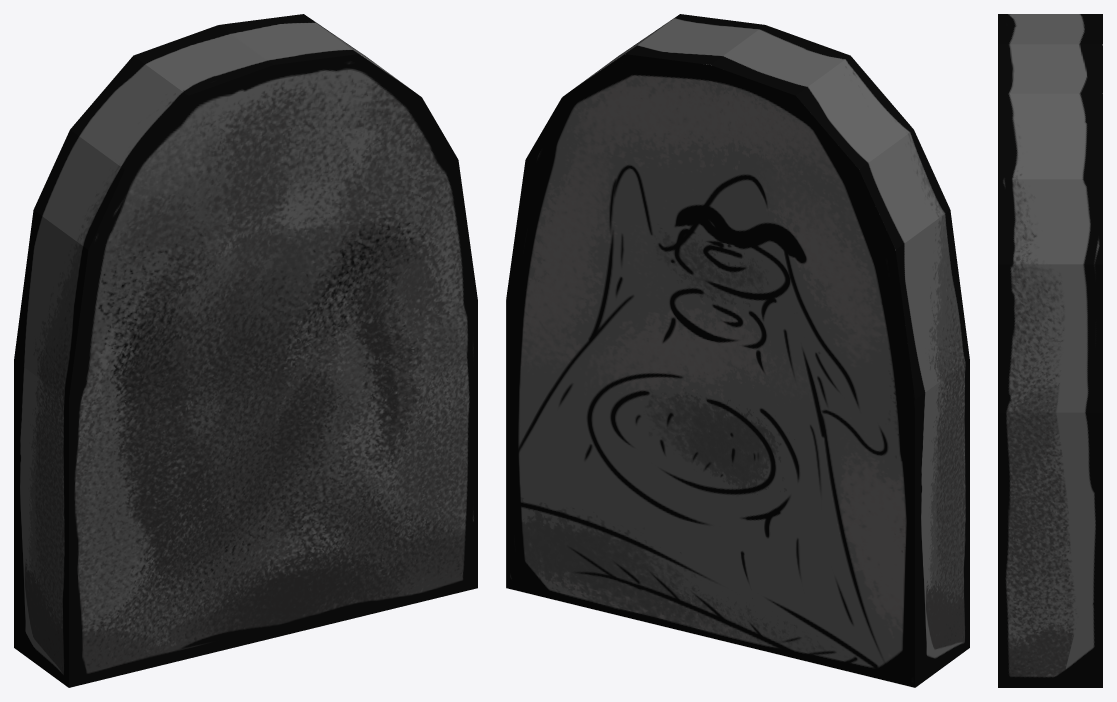
Rendered from Tablica.fbx.
3 views of the same model, side by side, from view 1: azimuth 30°, elevation 25°; view 2: azimuth 150°, elevation 25°; view 3: azimuth 270°, elevation 25° (orthographic). The views are drawn at different scales.
Visible parts, largest first — view 1: Plane; view 2: Plane; view 3: Plane.
Boxes of the visible parts, x1=… form: Plane: x1=14, y1=14, x2=477, y2=687; Plane: x1=506, y1=14, x2=969, y2=687; Plane: x1=998, y1=14, x2=1102, y2=687.
Bounding box in the file's own units: 274 × 367 × 63.69.
